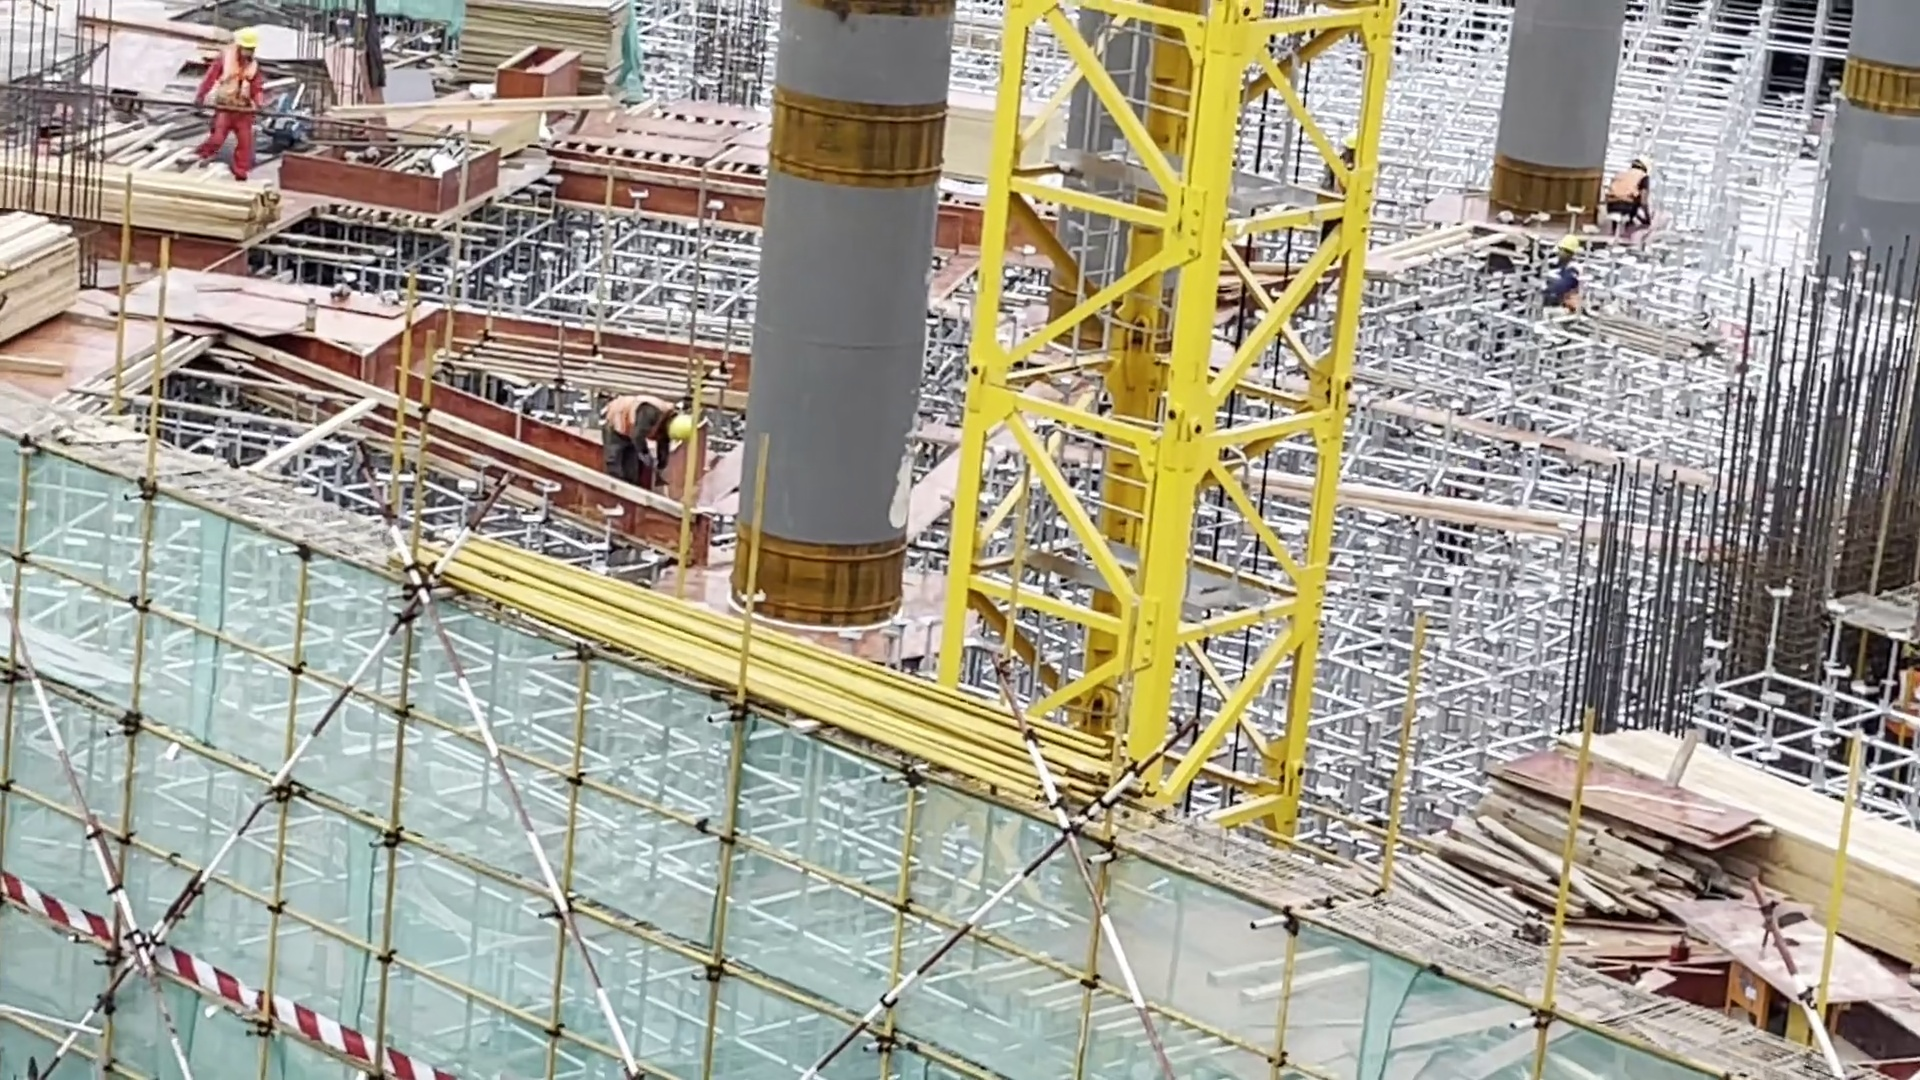cutter: (1675, 908, 1896, 1040)
helmet: (228, 18, 261, 62), (665, 405, 700, 444), (1555, 229, 1585, 261), (1631, 147, 1660, 178), (1336, 123, 1357, 152)
person: (590, 372, 698, 491), (206, 24, 267, 173), (1595, 153, 1649, 216), (1548, 231, 1581, 296)
vest: (600, 390, 663, 450), (224, 63, 262, 109), (1615, 169, 1640, 200), (1565, 265, 1583, 297)
wood: (1566, 726, 1920, 969), (1420, 774, 1688, 944), (61, 157, 267, 237)
